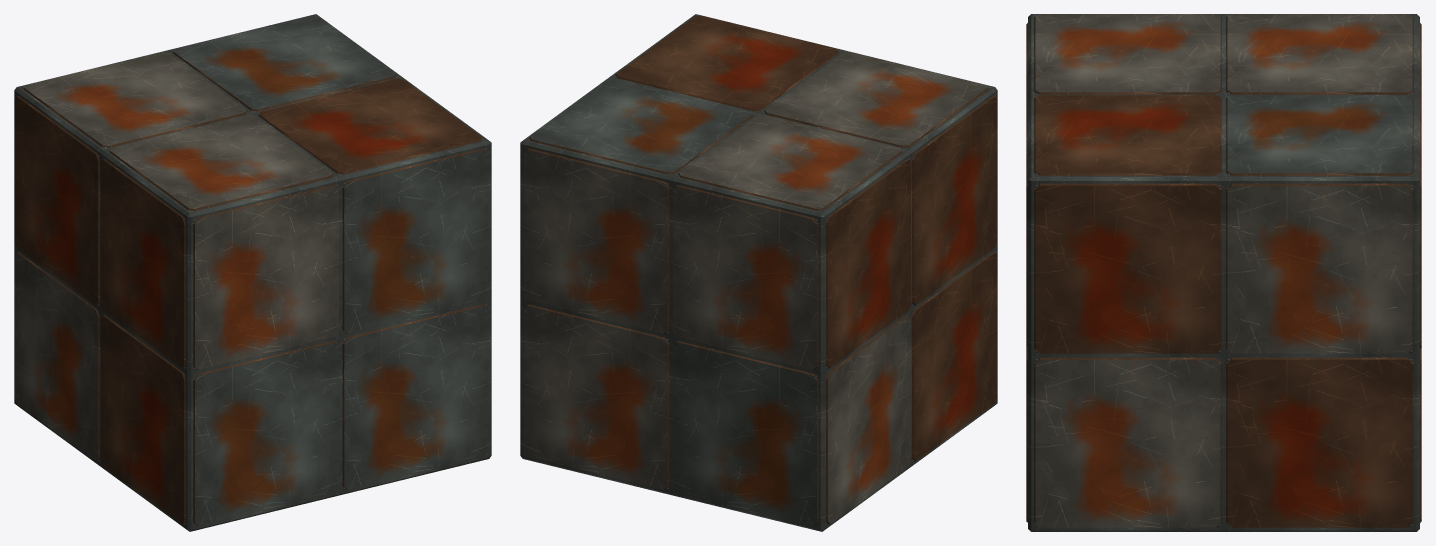
File: R4B_BigCube2.glb
The picture shows the model from 3 angles, left to right: view 1: azimuth 30°, elevation 25°; view 2: azimuth 150°, elevation 25°; view 3: azimuth 270°, elevation 25°; orthographic projection. The views are drawn at different scales.
Parts seen in each view (by area): view 1: R4B_BigCube2; view 2: R4B_BigCube2; view 3: R4B_BigCube2.
Boxes of the visible parts, x1=… form: R4B_BigCube2: x1=14, y1=14, x2=491, y2=531; R4B_BigCube2: x1=520, y1=14, x2=997, y2=531; R4B_BigCube2: x1=1026, y1=14, x2=1421, y2=531.
Bounding box in the file's own units: 1.07 × 1.07 × 1.07.
Materials: 4 (4 with a texture image).
